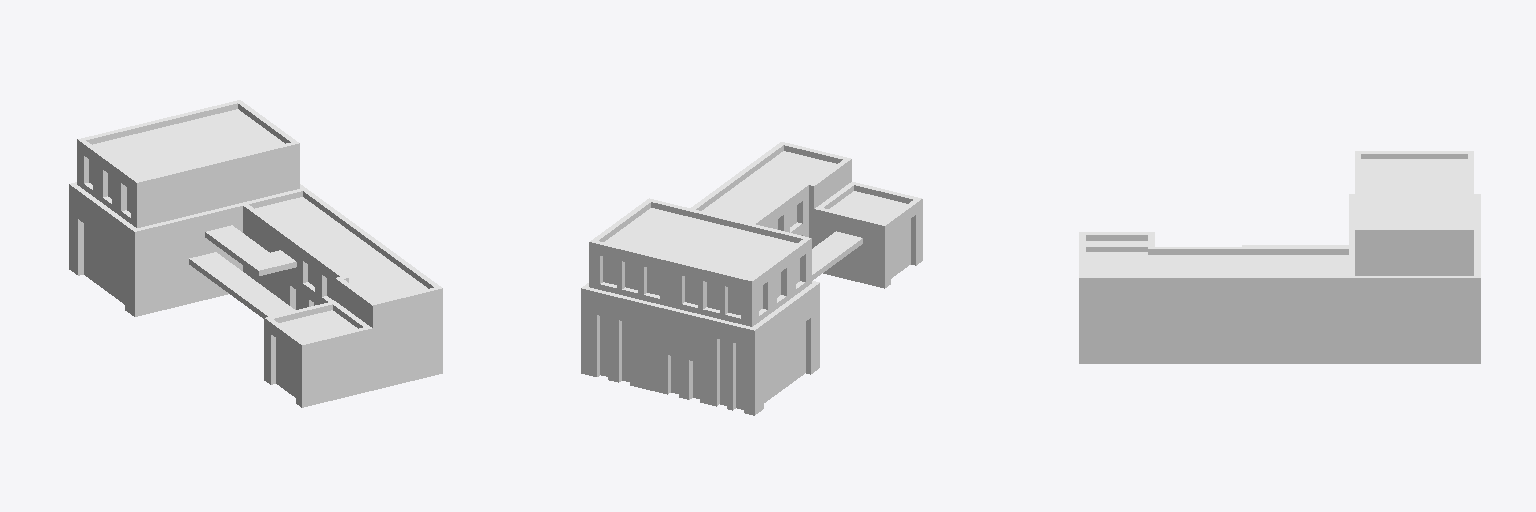
Rendered from workshop_electricpart.obj.
3 views of the same model, side by side, from view 1: azimuth 30°, elevation 25°; view 2: azimuth 150°, elevation 25°; view 3: azimuth 270°, elevation 25° (orthographic).
Visible parts, largest first — view 1: object 1; view 2: object 1; view 3: object 1.
Boxes of the visible parts, x1=… form: object 1: x1=69, y1=100, x2=442, y2=407; object 1: x1=581, y1=142, x2=922, y2=415; object 1: x1=1079, y1=151, x2=1480, y2=363.
Size of the model in its own units: 3.2 by 2.3 by 6.4.